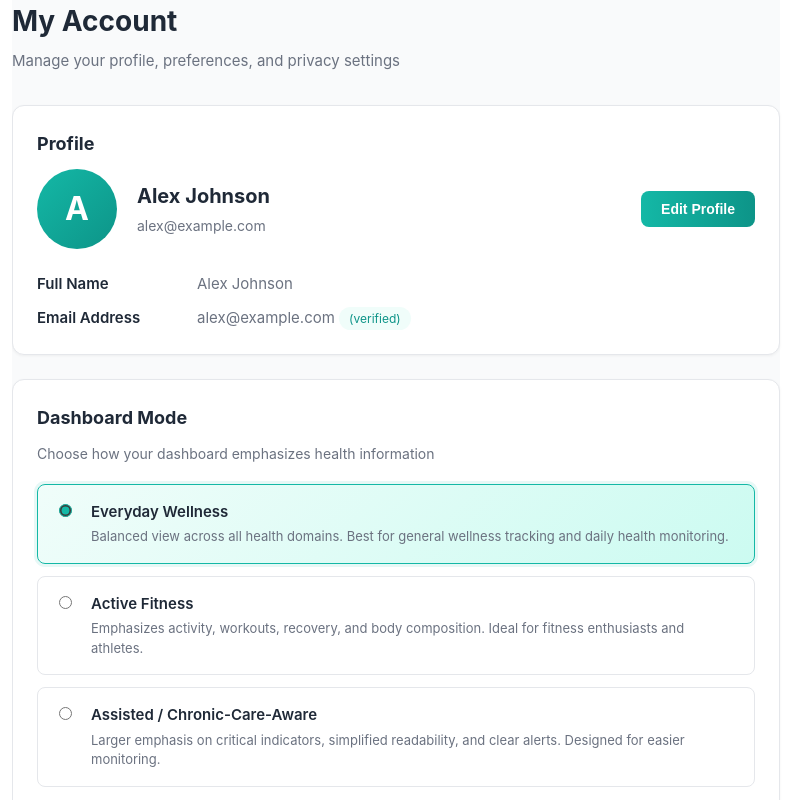
it: MyAccount — edit profile validation › shows a validation error when the full name is a single character
Click the button "Edit Profile": x=698, y=208 [641, 190, 755, 226]
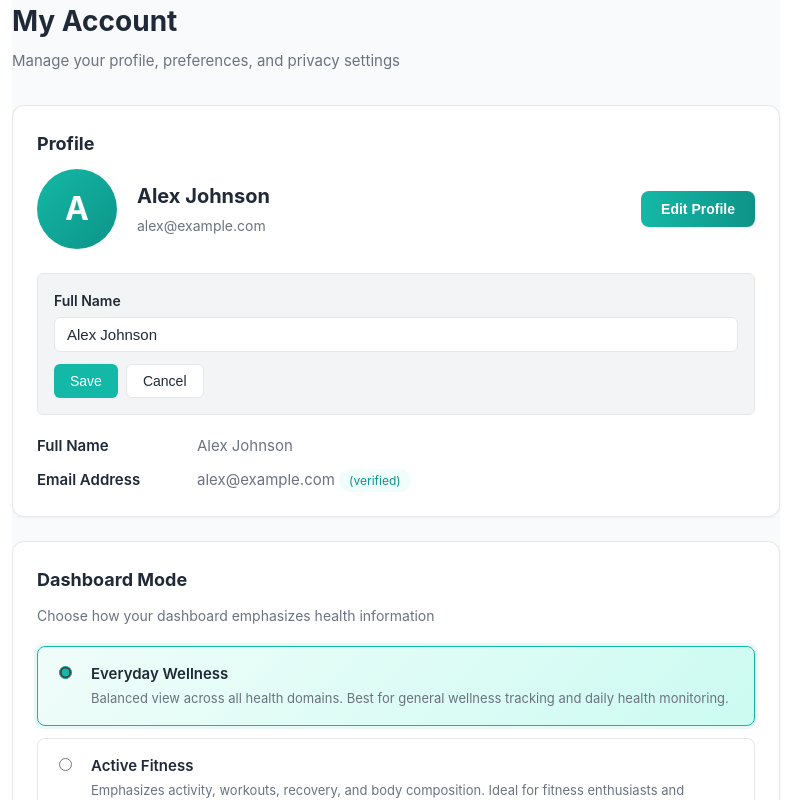
Replace the text in the field labelled "Full Name" with "X": x=396, y=334 [54, 316, 738, 352]
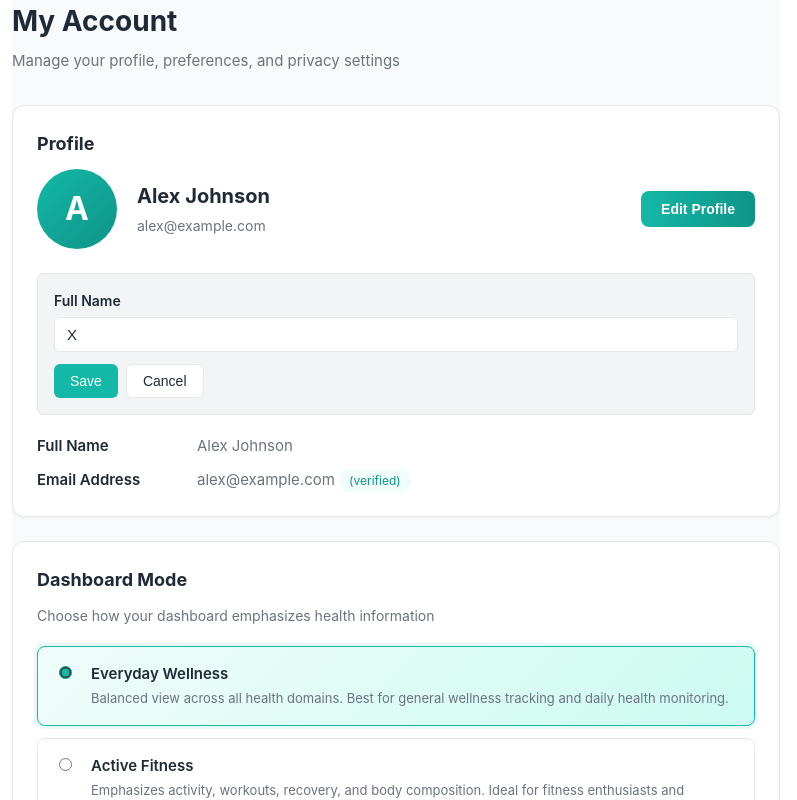
Click the button "Save": x=86, y=380 [54, 364, 118, 398]
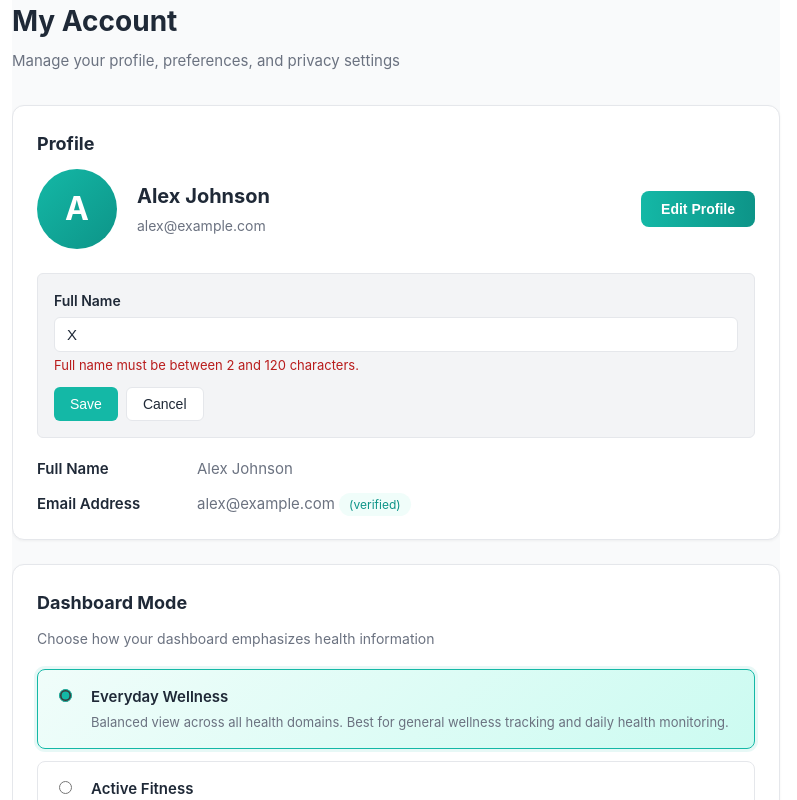
Check: the text "Full name must be between 2 and 120 characters." is shown, box [54, 356, 359, 372]
